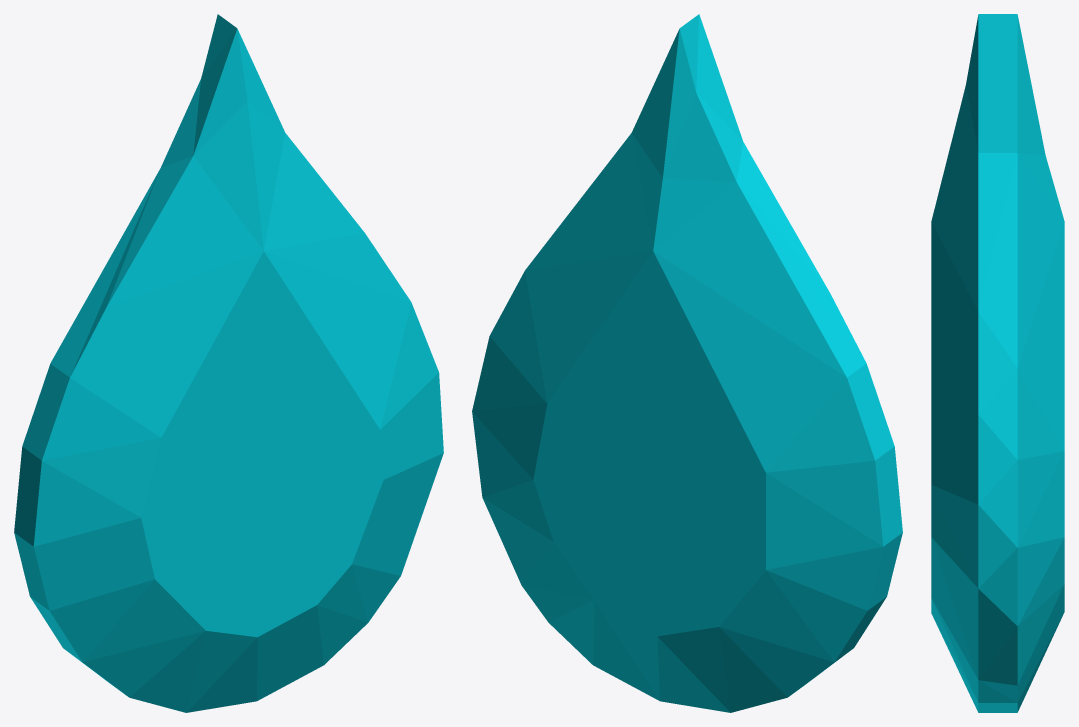
The picture shows the model from 3 angles, left to right: view 1: azimuth 30°, elevation 25°; view 2: azimuth 150°, elevation 25°; view 3: azimuth 270°, elevation 25°; orthographic projection.
Parts seen in each view (by area): view 1: Drop_2; view 2: Drop_2; view 3: Drop_2.
Part boxes in pixels (left/top/right/bottom): Drop_2: left=14, top=14, right=443, bottom=712; Drop_2: left=472, top=14, right=902, bottom=712; Drop_2: left=931, top=14, right=1064, bottom=712.
Bounding box in the file's own units: 0.5473 × 0.8619 × 0.1537.
